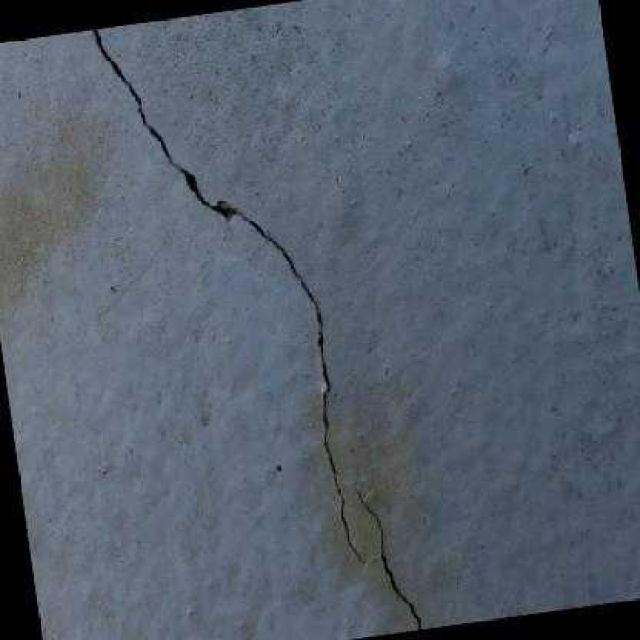D00: (91, 28, 367, 566), (351, 479, 421, 630)
